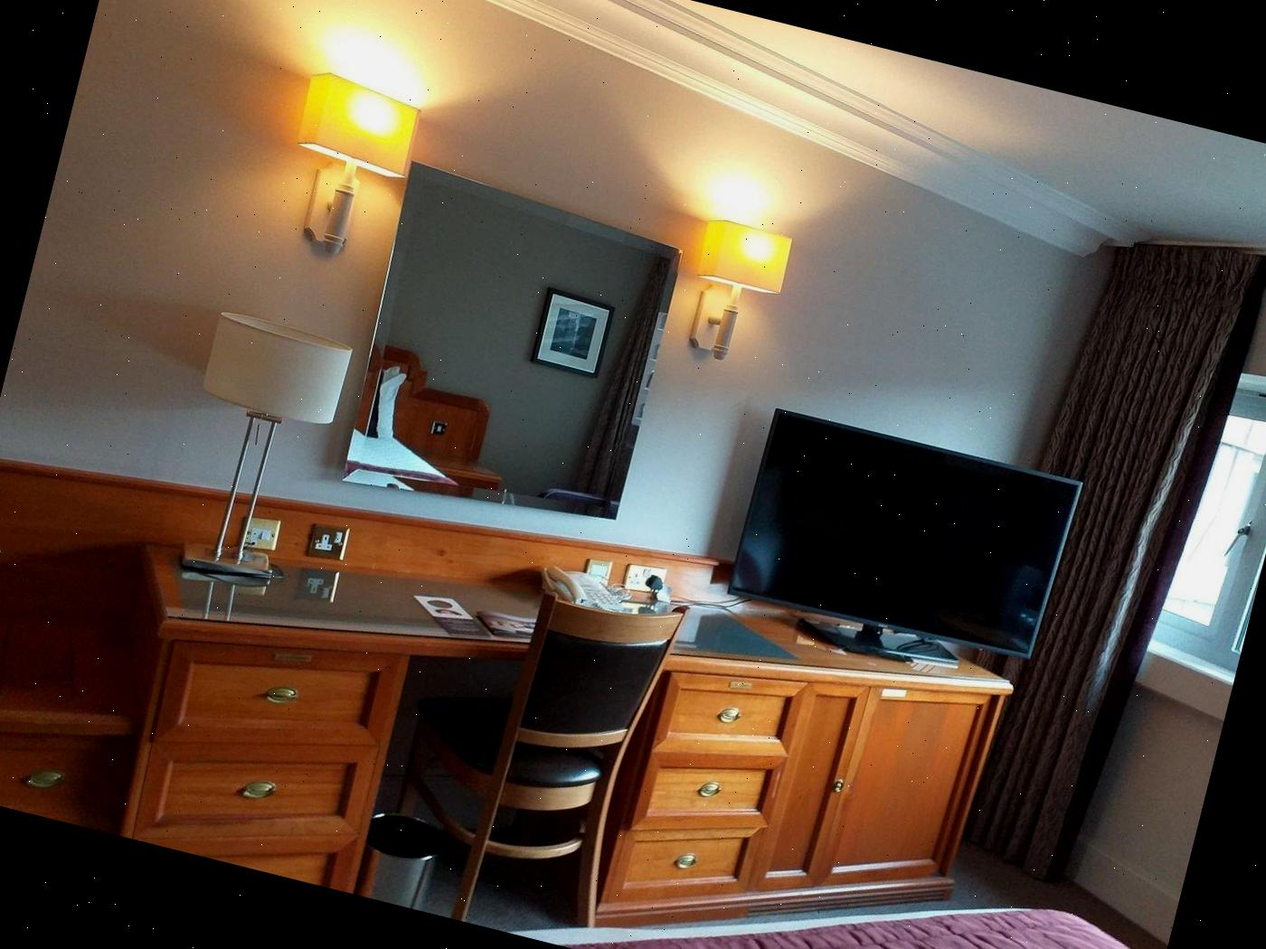chair: (463, 587, 677, 942)
lamp: (149, 302, 359, 601), (272, 72, 430, 275), (667, 214, 796, 375)
organized table: (0, 458, 1013, 941)
